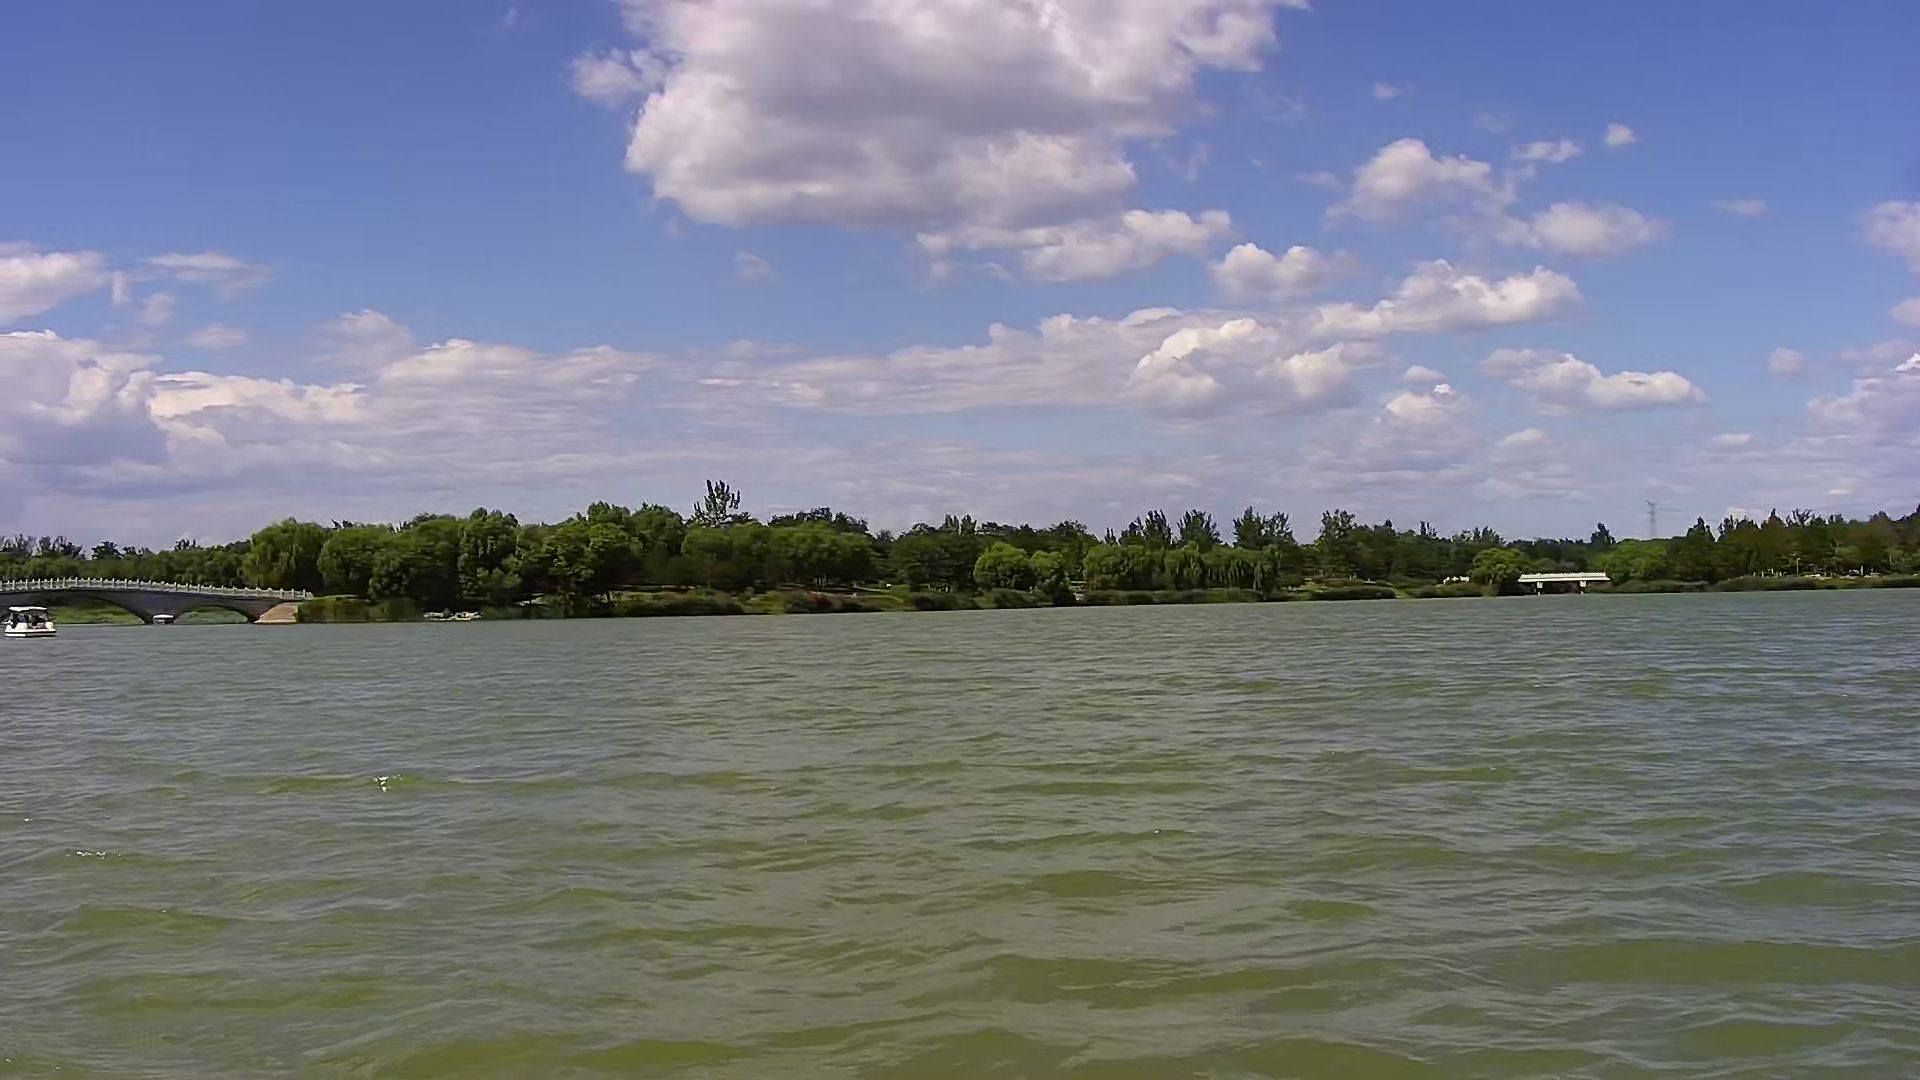boat: (3, 597, 67, 647)
bridge: (5, 568, 334, 628)
